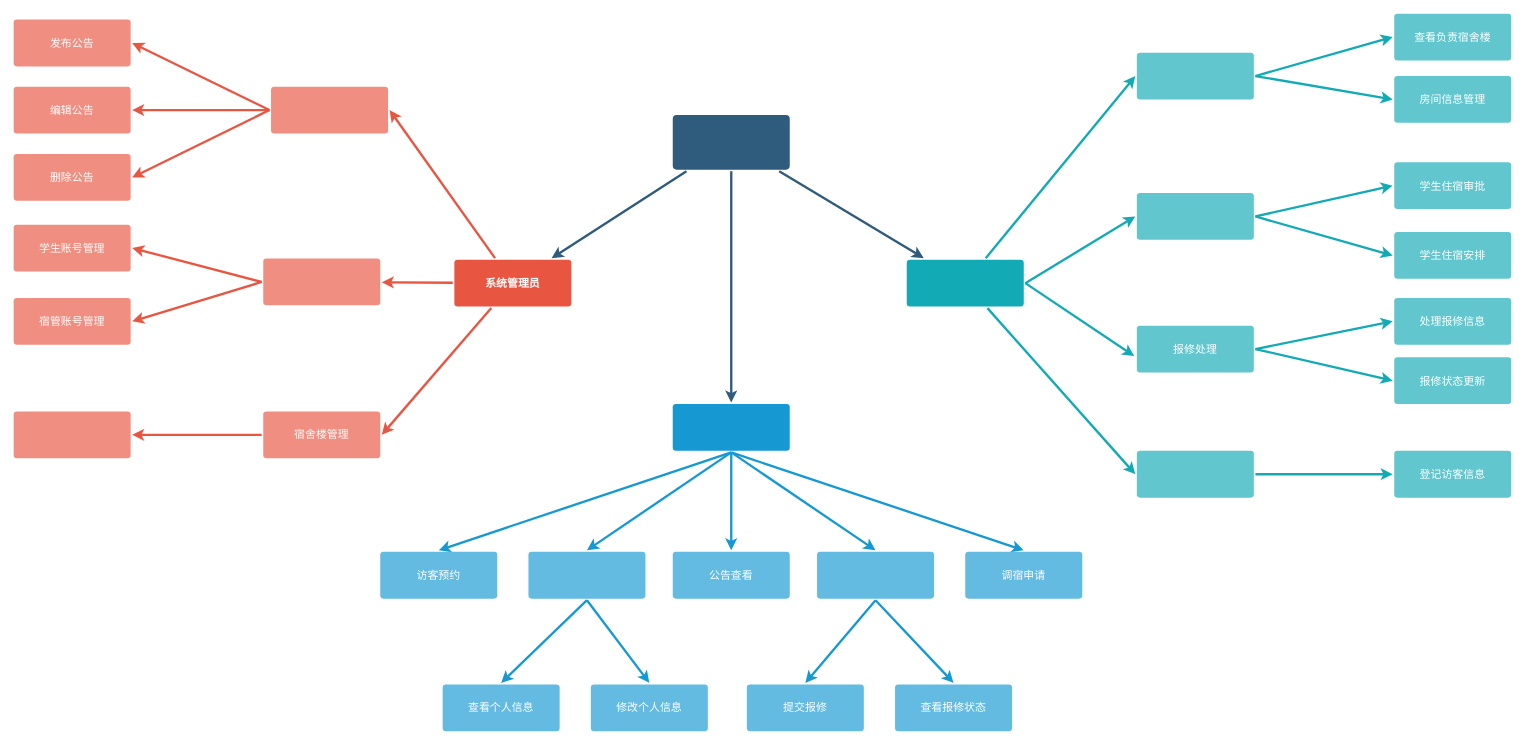
The diagram is 1524 pixels wide and 744 high, and some of its shapes have lost their labels. Each missing label, with the centre of its shape:
"个人信息管理" goes at [586,574].
"公告管理" goes at [329,109].
"学生" goes at [730,427].
"学生住宿管理" goes at [1194,216].
"学生宿舍管理系统" goes at [730,142].
"宿舍管理" goes at [1194,75].
"宿舍管理员" goes at [964,282].
"报修申请" goes at [875,574].
"查看各宿舍楼信息" goes at [71,434].
"用户管理" goes at [321,281].
"访客登记" goes at [1194,473].
